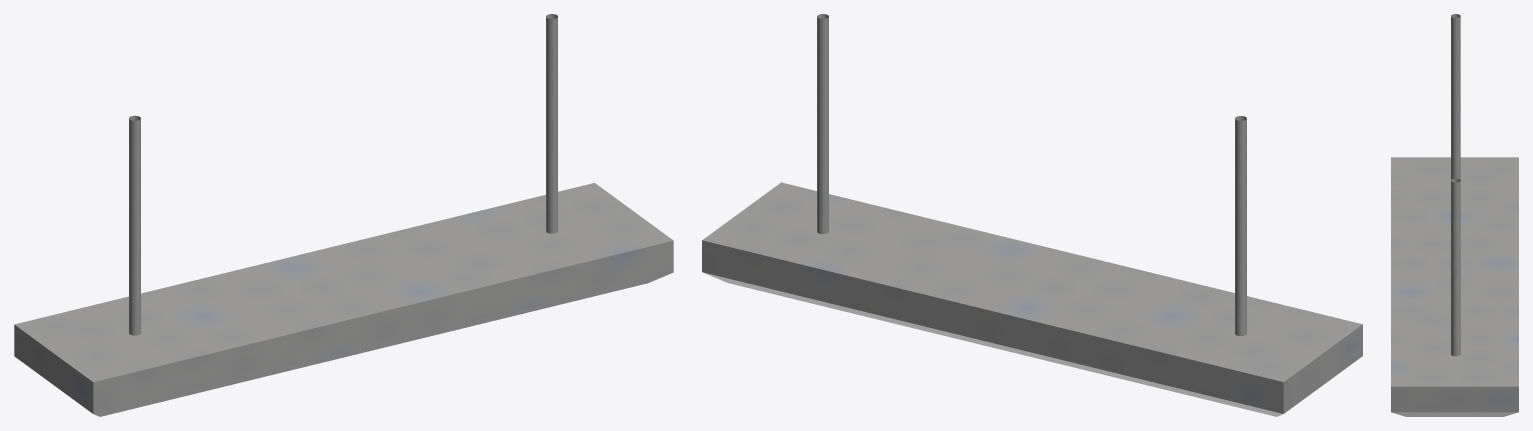
The model's file is lamp.fbx.
3 renders of one model, left to right at view 1: azimuth 30°, elevation 25°; view 2: azimuth 150°, elevation 25°; view 3: azimuth 270°, elevation 25°, orthographic. The views are drawn at different scales.
Visible parts, largest first — view 1: Lamp, Fastening; view 2: Lamp, Fastening; view 3: Lamp, Fastening.
Boxes of the visible parts, bbox=[...] form: Lamp: bbox=[14, 183, 673, 416]; Fastening: bbox=[129, 14, 557, 335]; Lamp: bbox=[702, 182, 1362, 416]; Fastening: bbox=[817, 14, 1246, 335]; Lamp: bbox=[1391, 157, 1518, 416]; Fastening: bbox=[1451, 14, 1460, 356].
Size of the model in its own units: 849 by 364 by 200.
